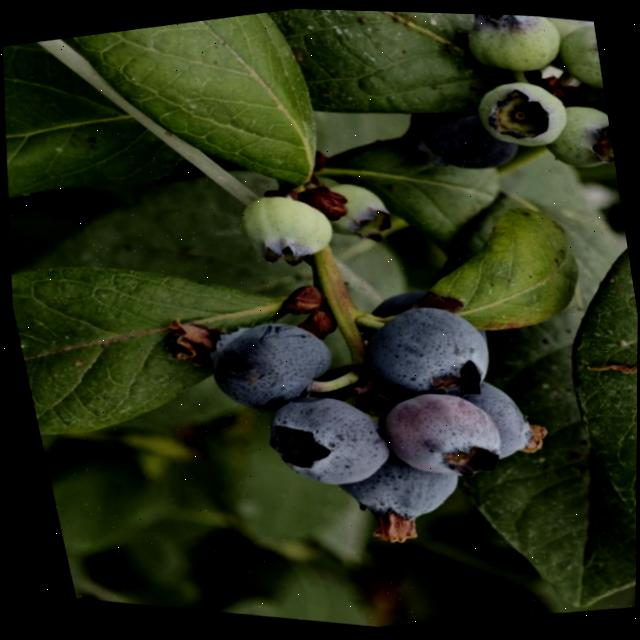RipeBlueBerry: (344, 282, 508, 425), (244, 376, 402, 513), (183, 300, 339, 435)
Semi-RipeBlueBerry: (366, 374, 512, 503)
UnripeBlueBerry: (226, 180, 341, 288), (468, 65, 575, 161), (461, 11, 569, 90)
